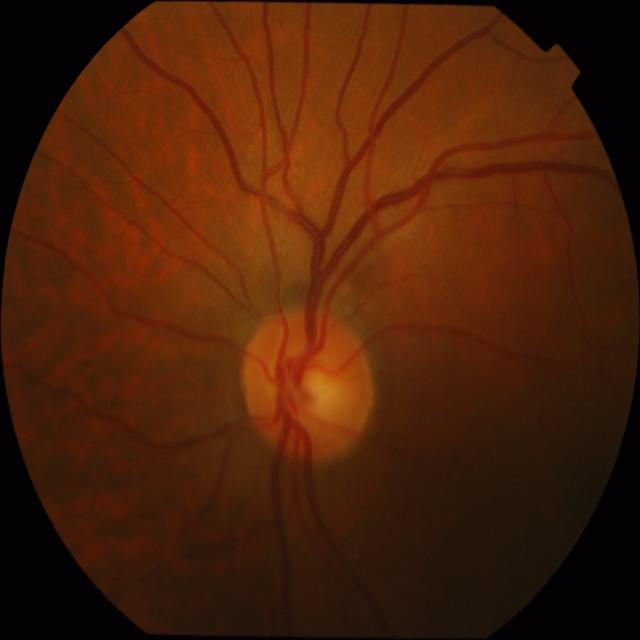OC: (292, 362, 340, 417)
OD: (240, 306, 375, 462)
